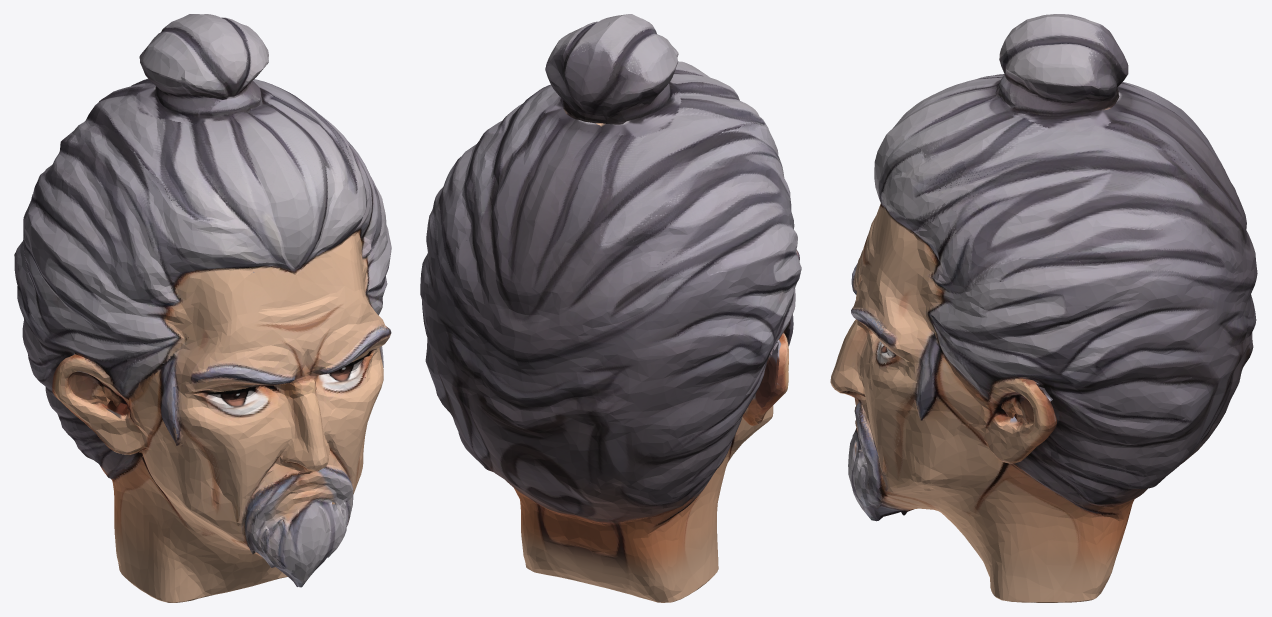
Rendered from side_koshi_repaired_atlas.glb.
3 renders of one model, left to right at view 1: azimuth 30°, elevation 25°; view 2: azimuth 150°, elevation 25°; view 3: azimuth 270°, elevation 25°, orthographic.
Visible parts, largest first — view 1: temp_mesh.ply; view 2: temp_mesh.ply; view 3: temp_mesh.ply.
Boxes of the visible parts, x1=… form: temp_mesh.ply: x1=14, y1=14, x2=391, y2=602; temp_mesh.ply: x1=420, y1=14, x2=801, y2=602; temp_mesh.ply: x1=830, y1=14, x2=1257, y2=602.
Size of the model in its own units: 1.22 by 1.97 by 1.39.
Materials: 1 (1 with a texture image).
